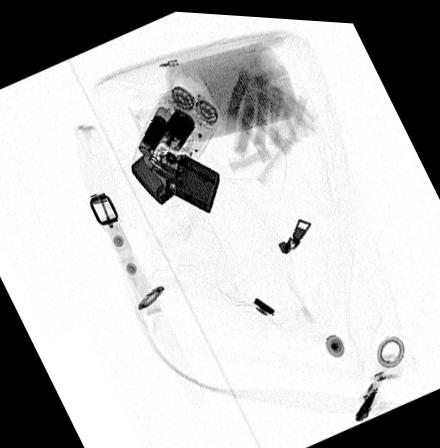Lighter: (129, 148, 219, 211)
